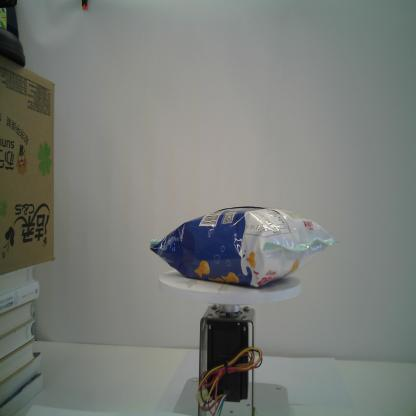Puffed Food: (149, 204, 337, 292)
